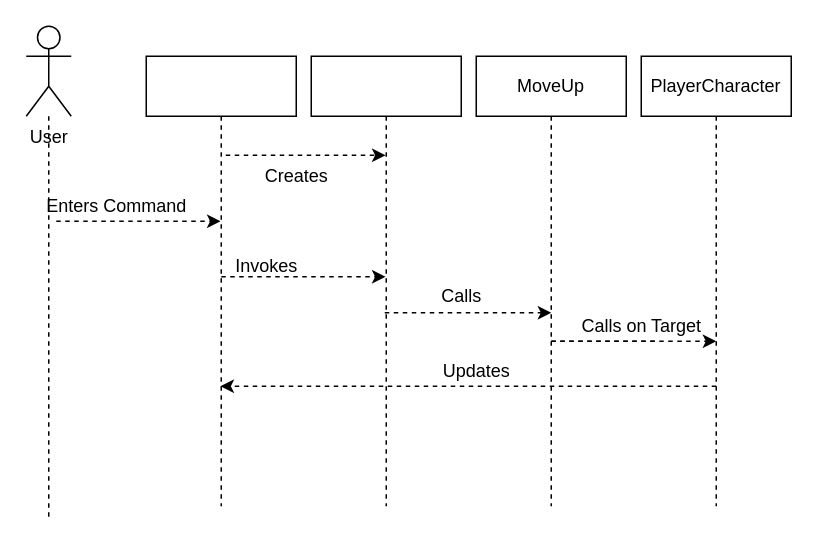
The diagram is 818 pixels wide and 549 high, and some of its shapes have lost their labels. The box of each missing label's shape, as (x1, y1, x2, y2) in pixels:
:Interpreter: (310, 55, 461, 506)
PTUI: (145, 55, 296, 506)
